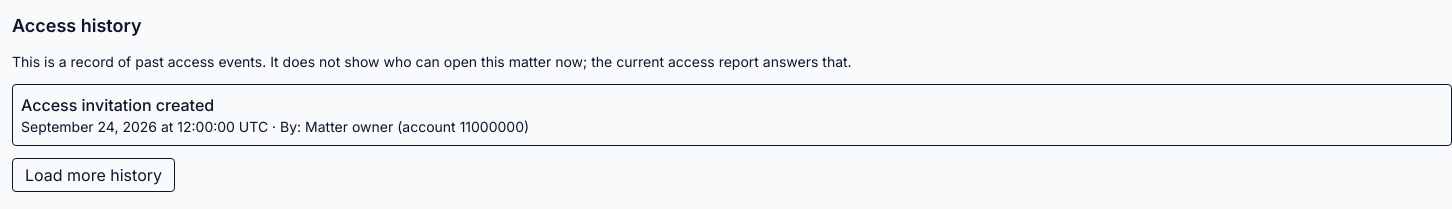
it: Stage 10 AccessHistoryPanel › access revoked between pages: shows the refusal and removes the already-loaded history
Step 1. Click the button "Load more history" → (94, 175), box [12,158,175,192]
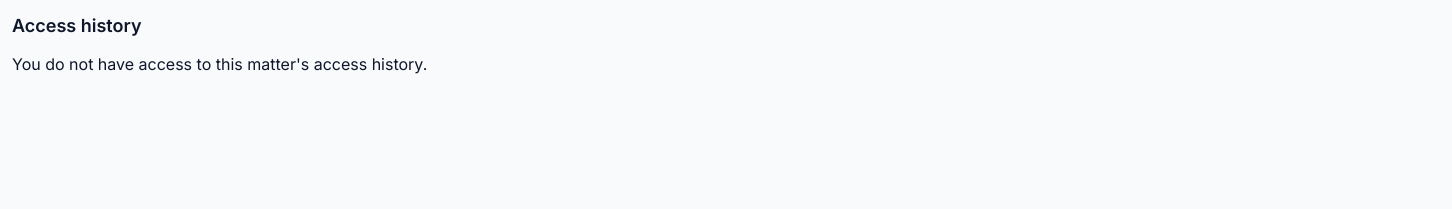
Expected: the message shows "do not have access", [12,54,427,74]
Expected: the list item with test id "access-history-entry" is gone
